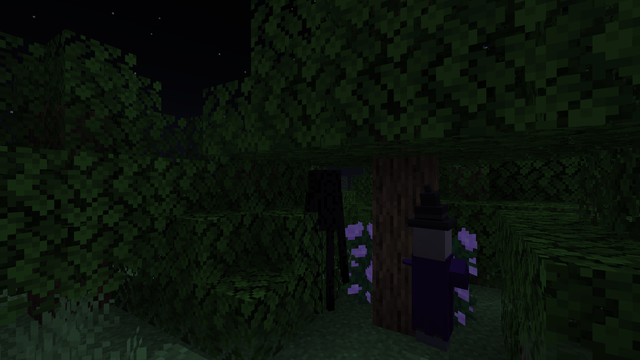endermens: (303, 164, 343, 321)
sorcieres: (409, 217, 453, 355)
